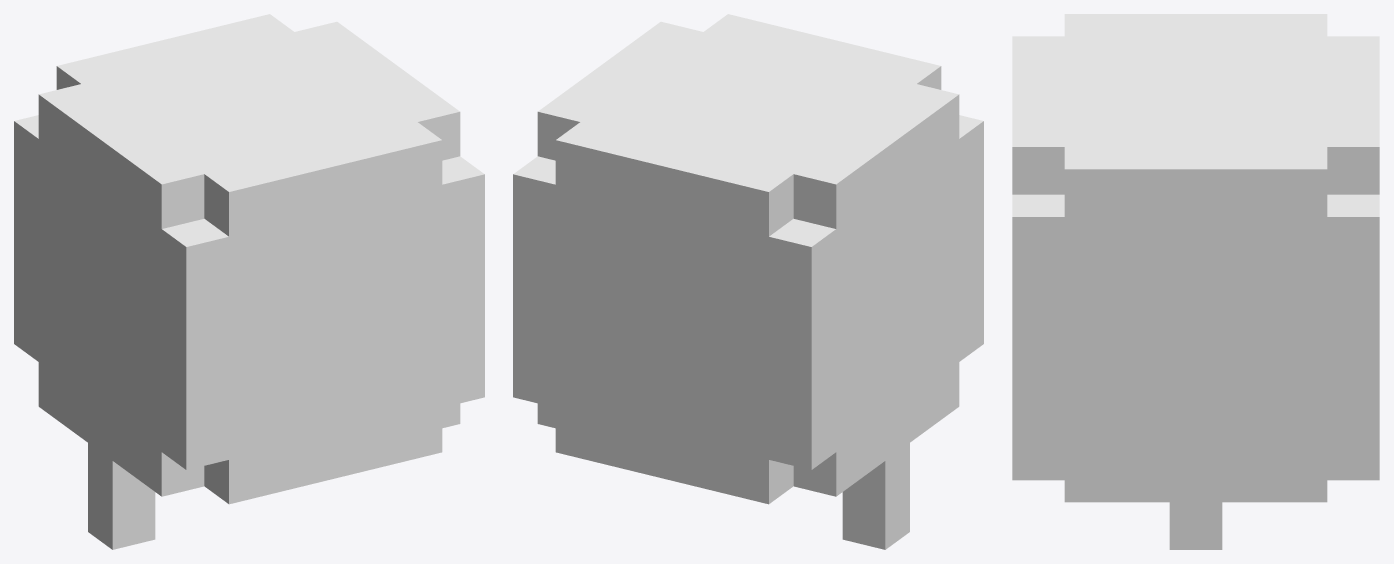
File: AngryDude_LStep.obj
The picture shows the model from 3 angles, left to right: view 1: azimuth 30°, elevation 25°; view 2: azimuth 150°, elevation 25°; view 3: azimuth 270°, elevation 25°; orthographic projection. The views are drawn at different scales.
Parts seen in each view (by area): view 1: AngryDude_LStep; view 2: AngryDude_LStep; view 3: AngryDude_LStep.
Boxes of the visible parts, bbox=[...] form: AngryDude_LStep: bbox=[14, 14, 484, 549]; AngryDude_LStep: bbox=[513, 14, 983, 549]; AngryDude_LStep: bbox=[1012, 14, 1379, 549].
Bounding box in the file's own units: 7 × 9 × 7.
